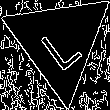L_NW: (33, 12, 85, 72)
